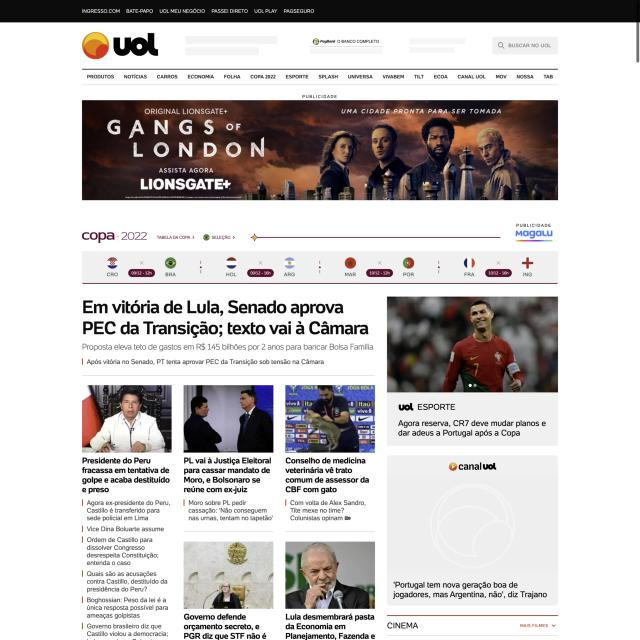ImageView: (82, 90, 558, 201)
QR code: (82, 250, 558, 284)
copy: (284, 384, 376, 453), (184, 383, 274, 453), (82, 384, 172, 453), (184, 540, 274, 608), (285, 542, 375, 609)
date picker: (81, 27, 161, 61)
decoration: (83, 70, 557, 84), (80, 6, 317, 16)
image: (80, 295, 375, 339)
